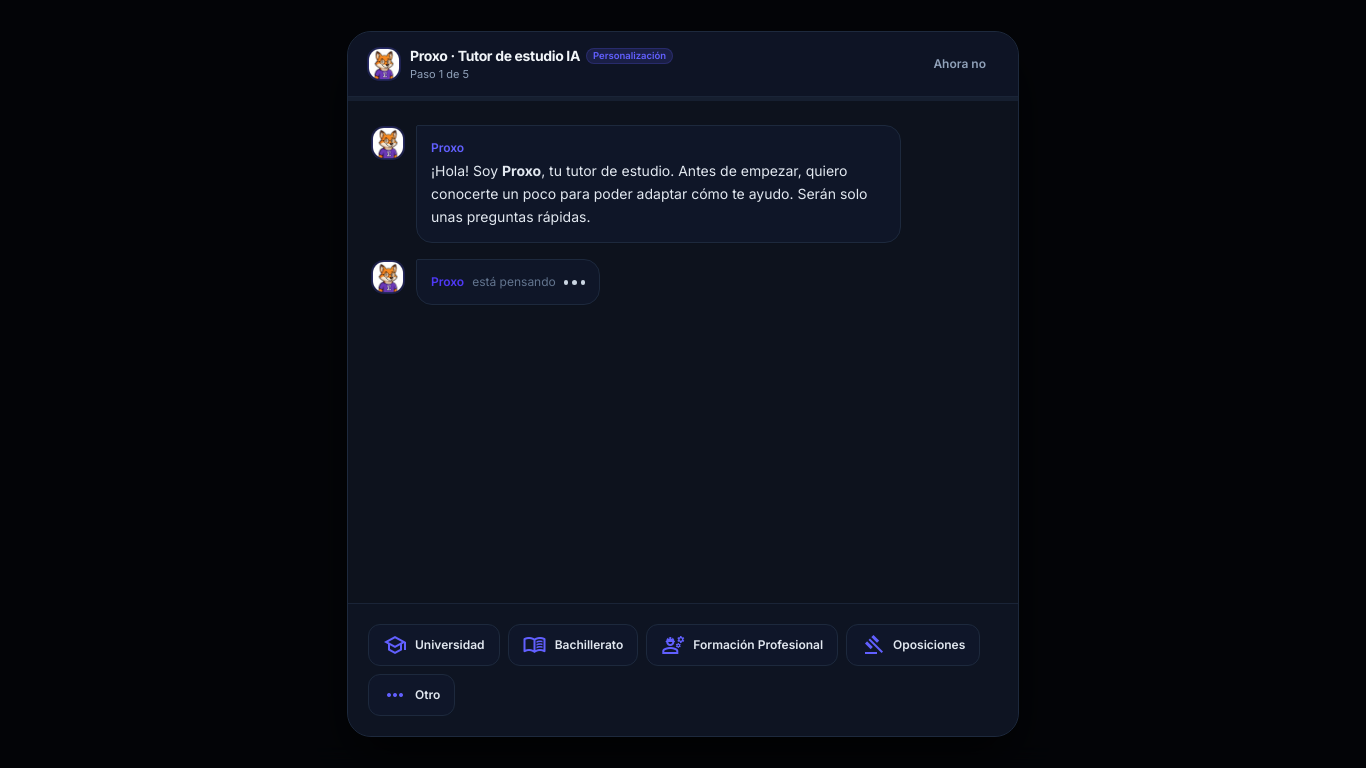
ConversationalOnboarding › progresses to next question when selecting a chip option
Click the button "Universidad".
click(434, 645)  # box x1=368 y1=624 x2=500 y2=666
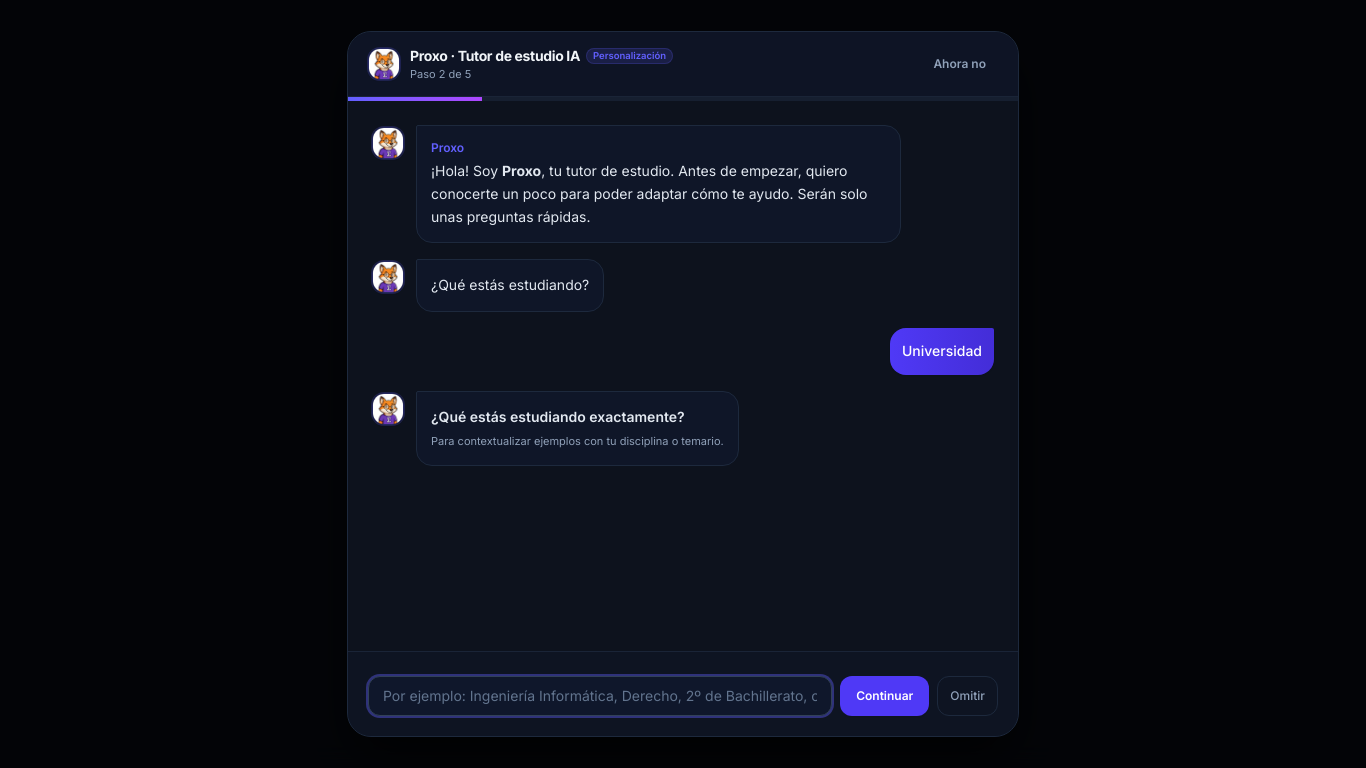
Check: the text "¿Qué estás estudiando exactamente?" is shown, box x1=431 y1=406 x2=685 y2=429
